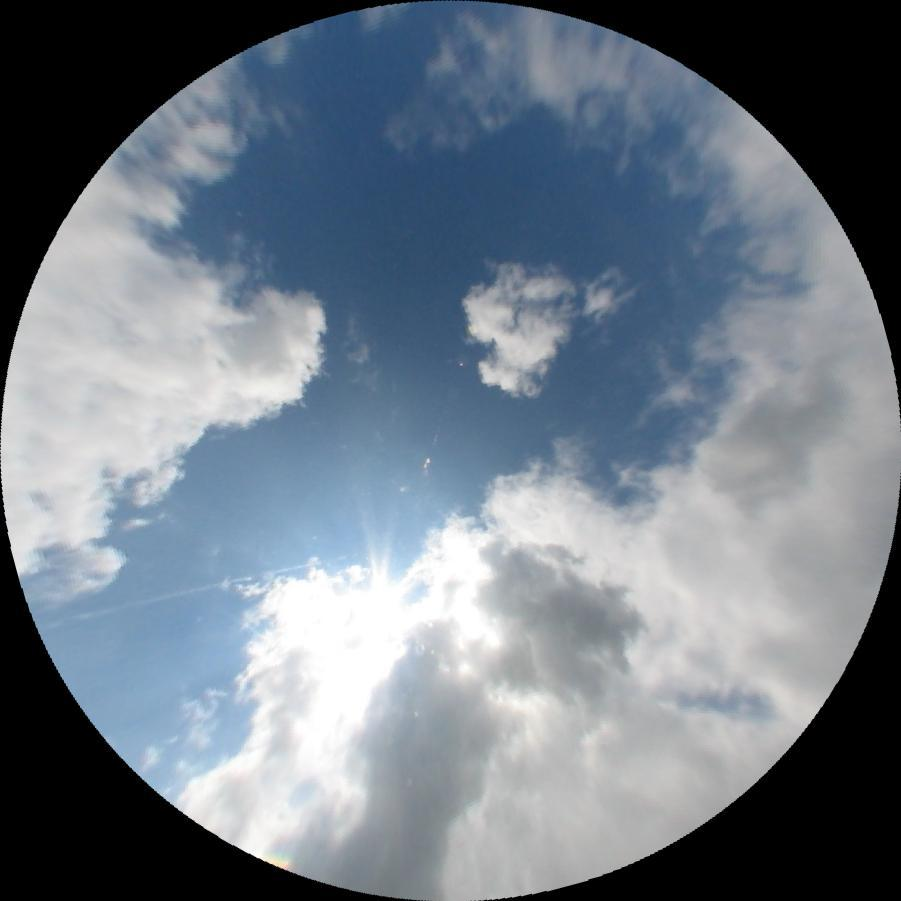contrail young: (228, 613, 262, 638)
parasite: (41, 556, 322, 631)
